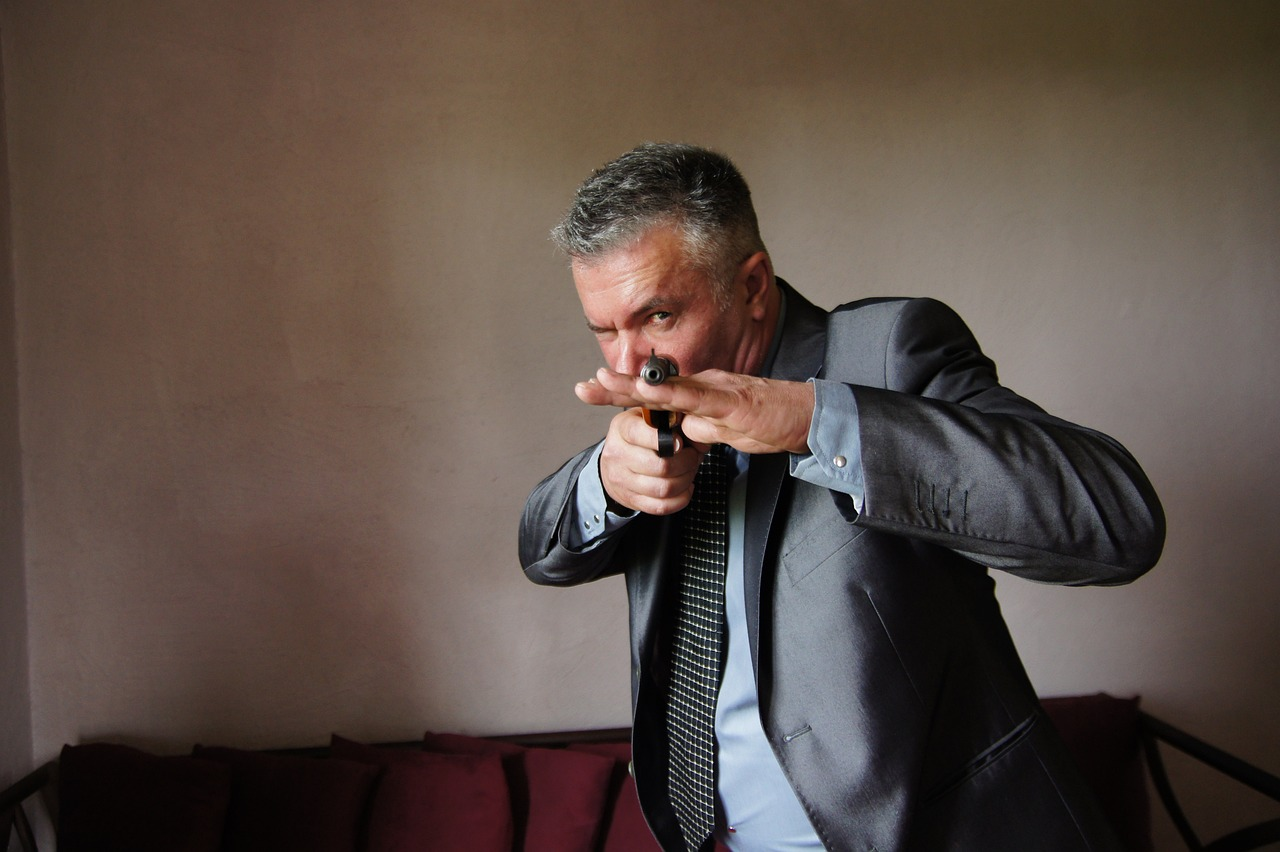gun: (633, 340, 687, 463)
